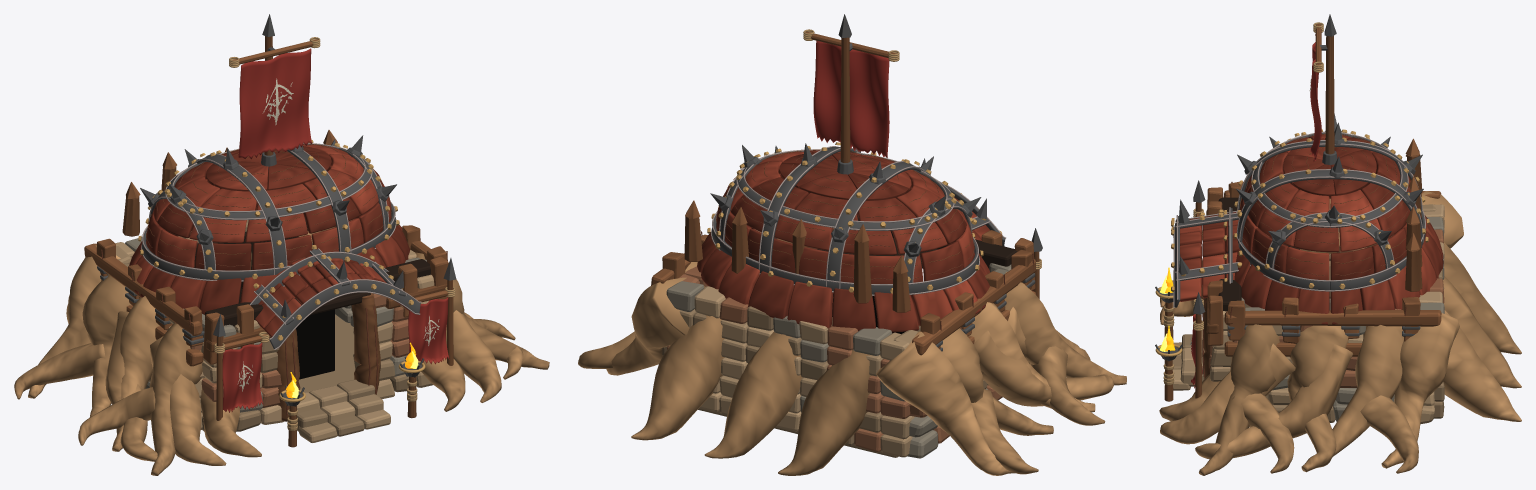
The model's file is before.glb.
The picture shows the model from 3 angles, left to right: view 1: azimuth 30°, elevation 25°; view 2: azimuth 150°, elevation 25°; view 3: azimuth 270°, elevation 25°; orthographic projection. The views are drawn at different scales.
Visible parts, largest first — view 1: Rootbound Hall · evaluated preview mesh; view 2: Rootbound Hall · evaluated preview mesh; view 3: Rootbound Hall · evaluated preview mesh.
Part boxes in pixels (x1=…): Rootbound Hall · evaluated preview mesh: x1=14, y1=14, x2=549, y2=475; Rootbound Hall · evaluated preview mesh: x1=578, y1=14, x2=1126, y2=475; Rootbound Hall · evaluated preview mesh: x1=1155, y1=14, x2=1521, y2=475.
Size of the model in its own units: 8.74 by 6.92 by 6.42.
